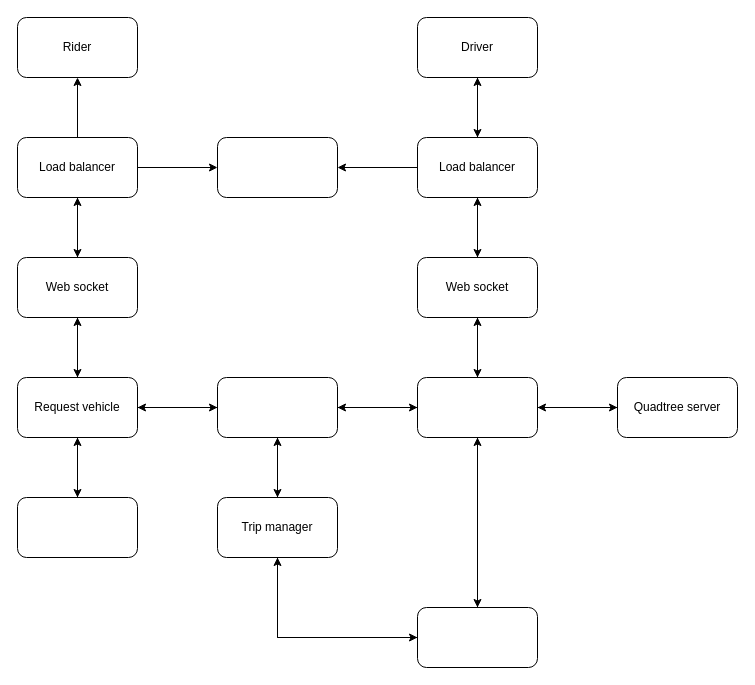
This 755x685 diagram has some shape labels left out. The shapes that lost their labels are listed below. From the top down, each one's box as (x1, y1, x2, y2) in pixels, then its label:
(216, 136, 338, 198): CDN
(216, 376, 338, 438): Find driver
(416, 376, 538, 438): Location manager
(16, 496, 138, 558): ETA service
(416, 606, 538, 668): DB
